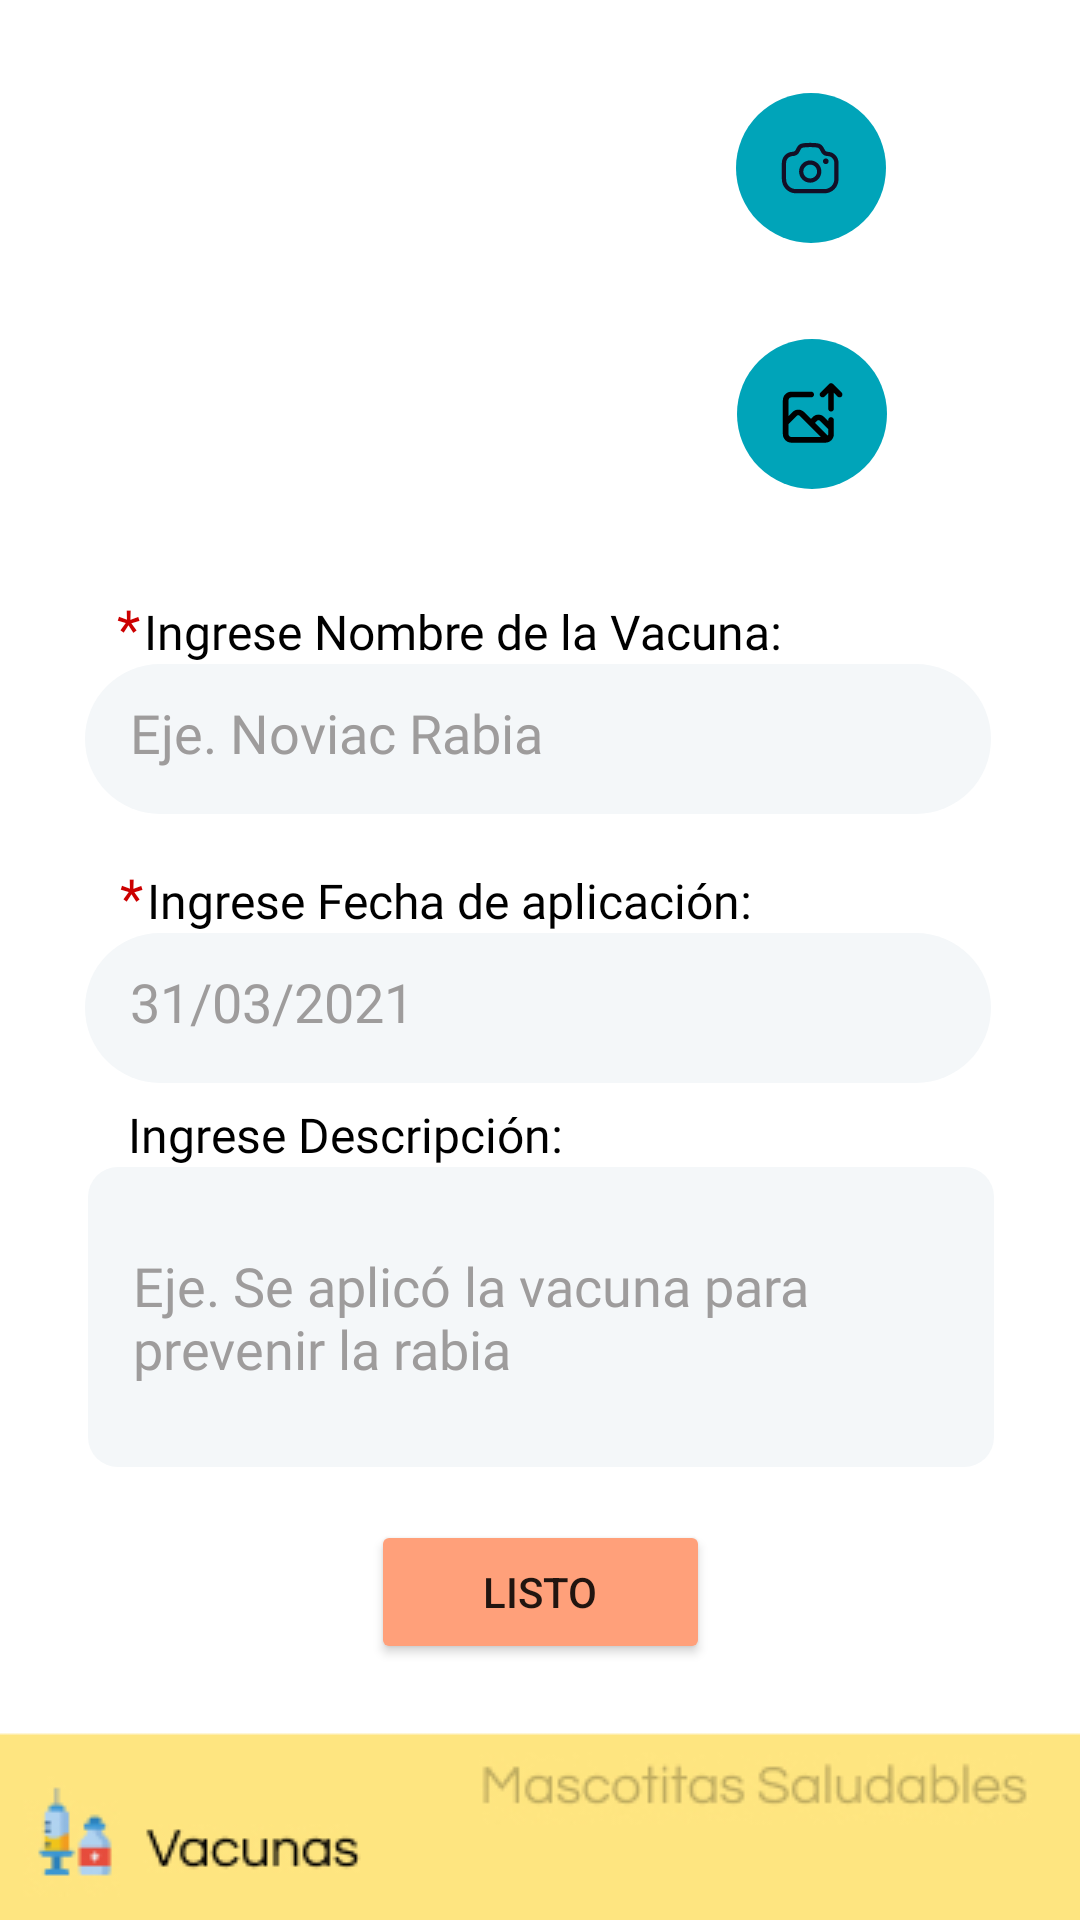

Point at icon controls on the screen. Image size 1080 x 1920, points as (x,y).
camera li: (811,168)
subir: (812,414)
